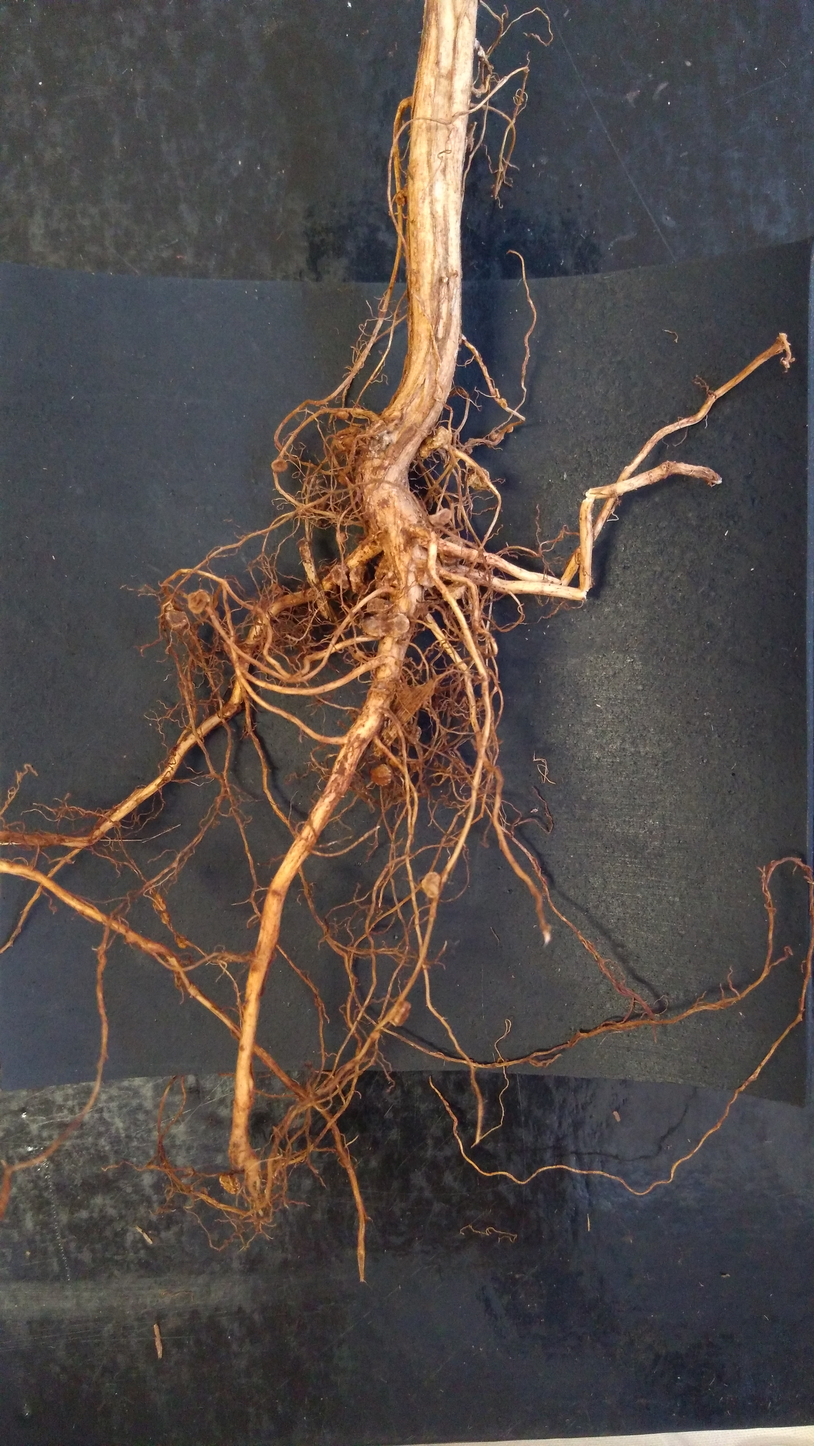nodule: (360, 613, 411, 639), (416, 869, 448, 904), (355, 456, 390, 487), (384, 999, 415, 1030), (367, 761, 397, 791), (164, 603, 192, 634), (333, 426, 366, 452), (346, 563, 371, 597), (184, 587, 213, 616), (466, 465, 496, 492), (439, 537, 466, 566), (217, 1172, 246, 1198), (426, 424, 453, 451), (329, 562, 350, 592), (442, 580, 468, 602), (400, 723, 424, 746), (409, 545, 432, 569), (265, 456, 294, 475), (427, 508, 453, 528), (365, 596, 391, 614), (418, 569, 440, 588), (382, 408, 403, 423), (335, 407, 353, 424), (368, 419, 385, 437), (418, 440, 434, 459), (496, 395, 511, 414), (336, 471, 353, 486), (394, 190, 407, 208), (388, 756, 402, 769), (335, 531, 346, 545)
